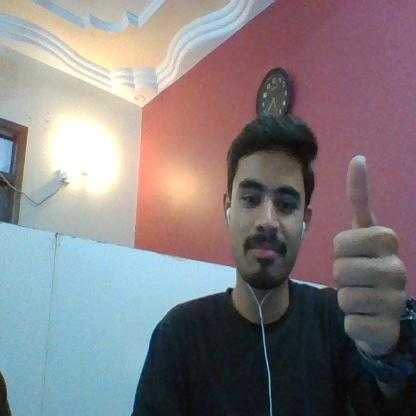thumbs-up: (325, 149, 410, 353)
